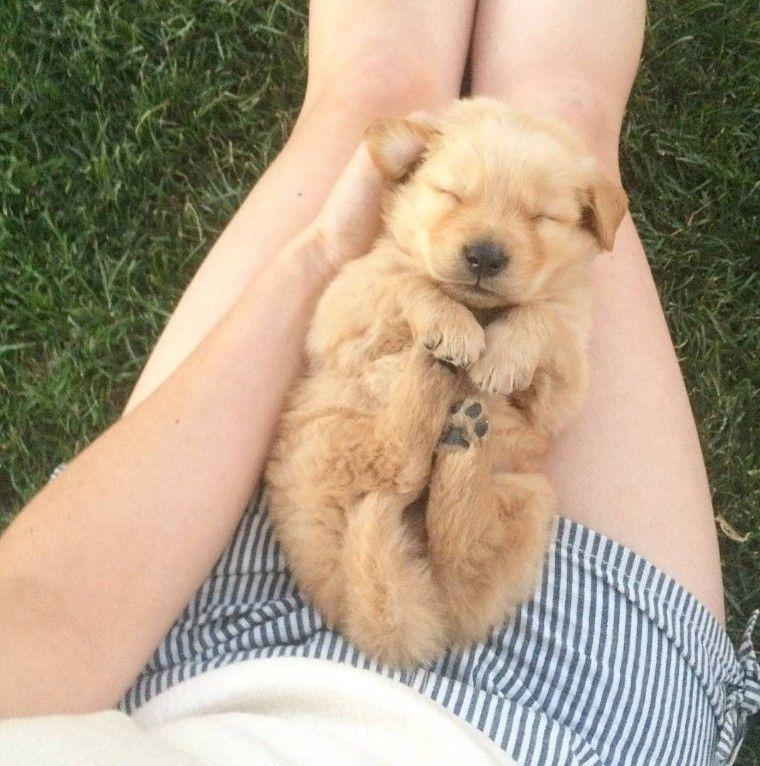puppy-dog: (253, 102, 638, 674)
